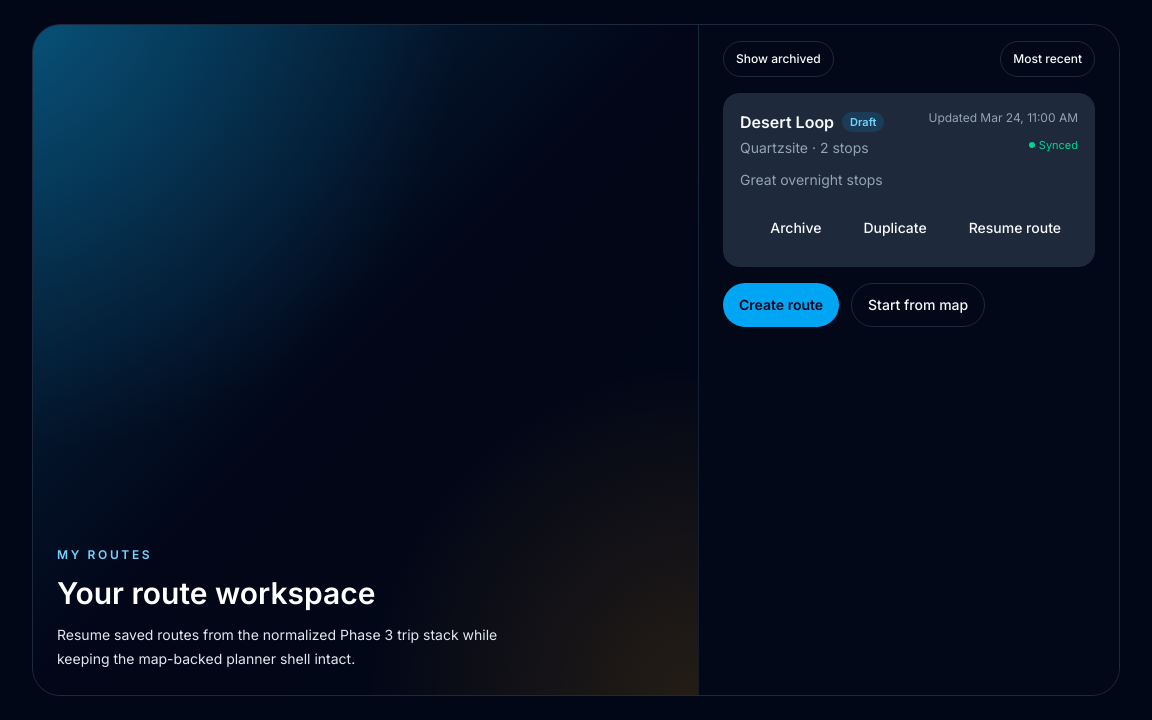
MyRoutesScreen › opens a saved trip in the planner and syncs the tripId query param
Click the button "Resume route" at (1015,228), box x1=952 y1=206 x2=1078 y2=250
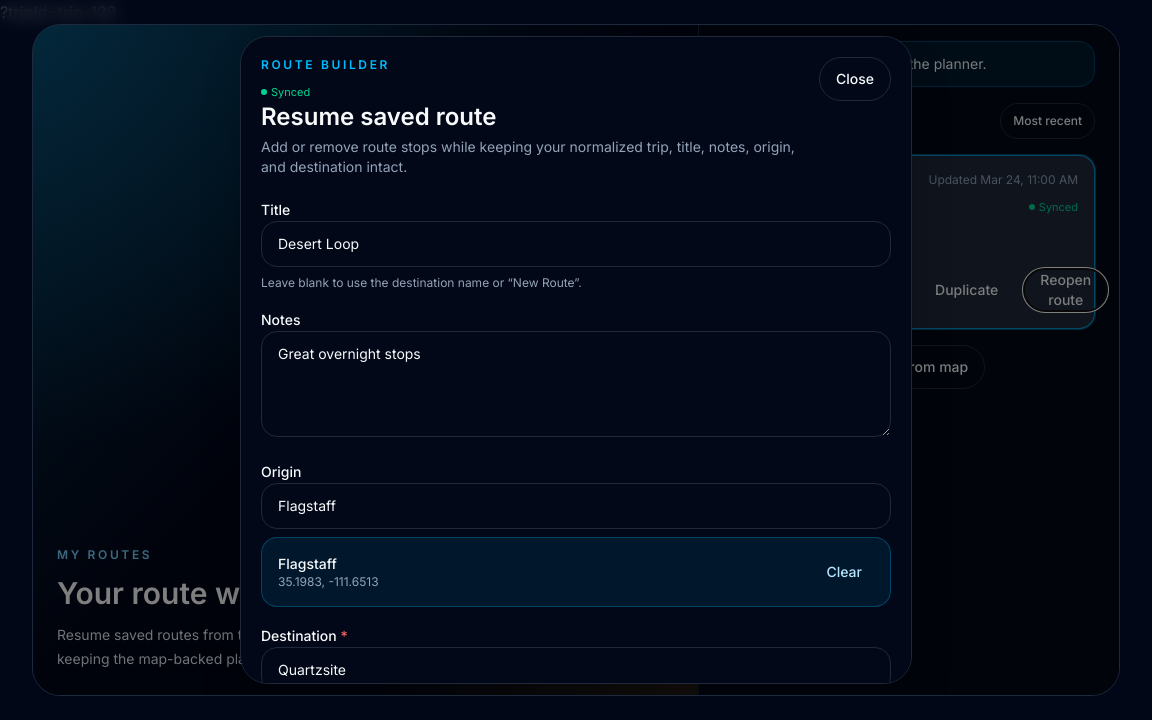
Expected: the text with test id "location-search" reads "?tripId=trip-123", x1=0 y1=2 x2=116 y2=22
Expected: the dialog named "resume route" is shown, x1=240 y1=36 x2=912 y2=684
Expected: the field labelled "Title" holds "Desert Loop", x1=261 y1=221 x2=891 y2=267
